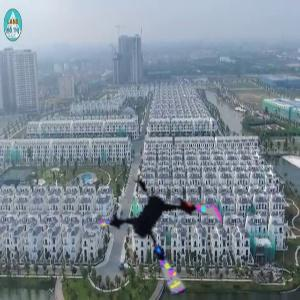drone: (101, 165, 232, 296)
